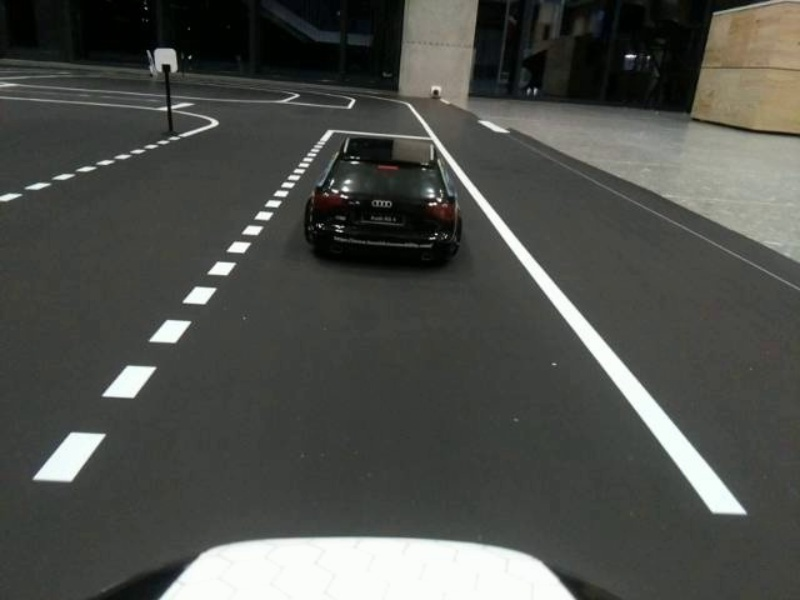car: (304, 135, 474, 271)
